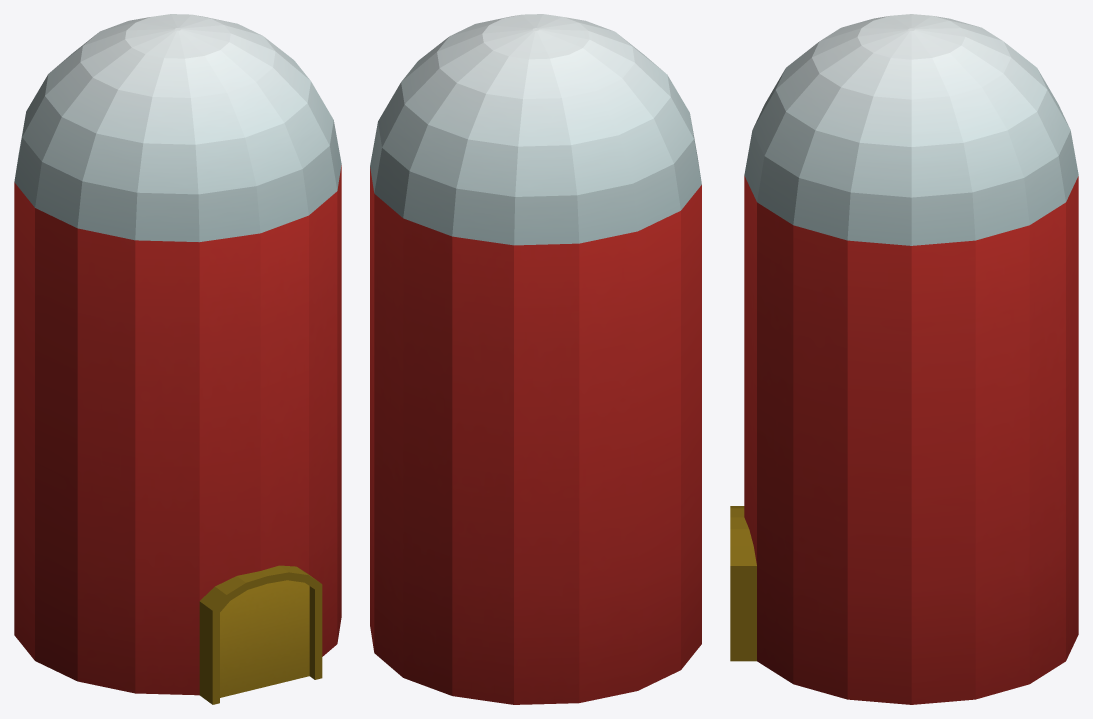
The model's file is silo_sm.obj.
3 views of the same model, side by side, from view 1: azimuth 30°, elevation 25°; view 2: azimuth 150°, elevation 25°; view 3: azimuth 270°, elevation 25° (orthographic).
Parts seen in each view (by area): view 1: silo_sm, door_silo_sm; view 2: silo_sm; view 3: silo_sm, door_silo_sm.
Boxes of the visible parts, x1,y1,x2,y2 form: silo_sm: (14, 14, 341, 695); door_silo_sm: (199, 565, 322, 704); silo_sm: (370, 14, 701, 704); silo_sm: (744, 14, 1078, 704); door_silo_sm: (730, 506, 756, 661).
Bounding box in the file's own units: 6.17 × 12.31 × 6.43.
